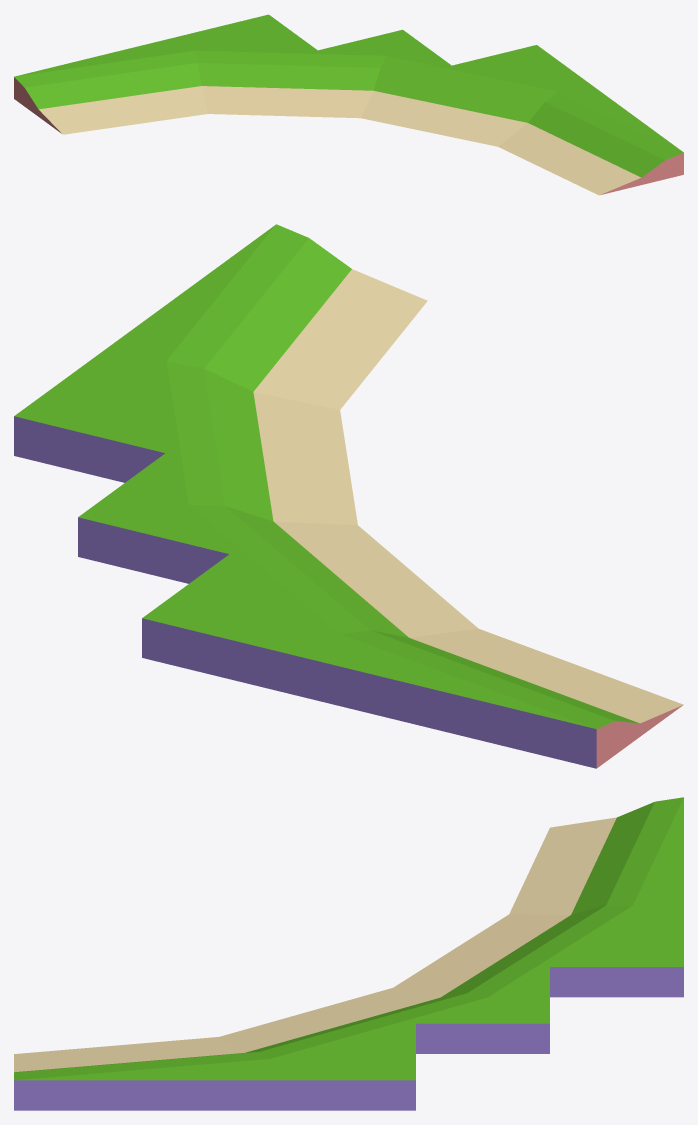
File: Path_Terrain_Basic_Curve_Inner_5x5.glb
3 views of the same model, one above another, from view 1: azimuth 30°, elevation 25°; view 2: azimuth 150°, elevation 25°; view 3: azimuth 270°, elevation 25° (orthographic). The views are drawn at different scales.
Parts seen in each view (by area): view 1: Path_Terrain_Basic_Curve_Inner_5x5; view 2: Path_Terrain_Basic_Curve_Inner_5x5; view 3: Path_Terrain_Basic_Curve_Inner_5x5.
Part boxes in pixels (bbox=[...]): Path_Terrain_Basic_Curve_Inner_5x5: bbox=[14, 14, 683, 195]; Path_Terrain_Basic_Curve_Inner_5x5: bbox=[14, 224, 683, 768]; Path_Terrain_Basic_Curve_Inner_5x5: bbox=[14, 797, 683, 1110].
Size of the model in its own units: 500 by 25 by 500.
